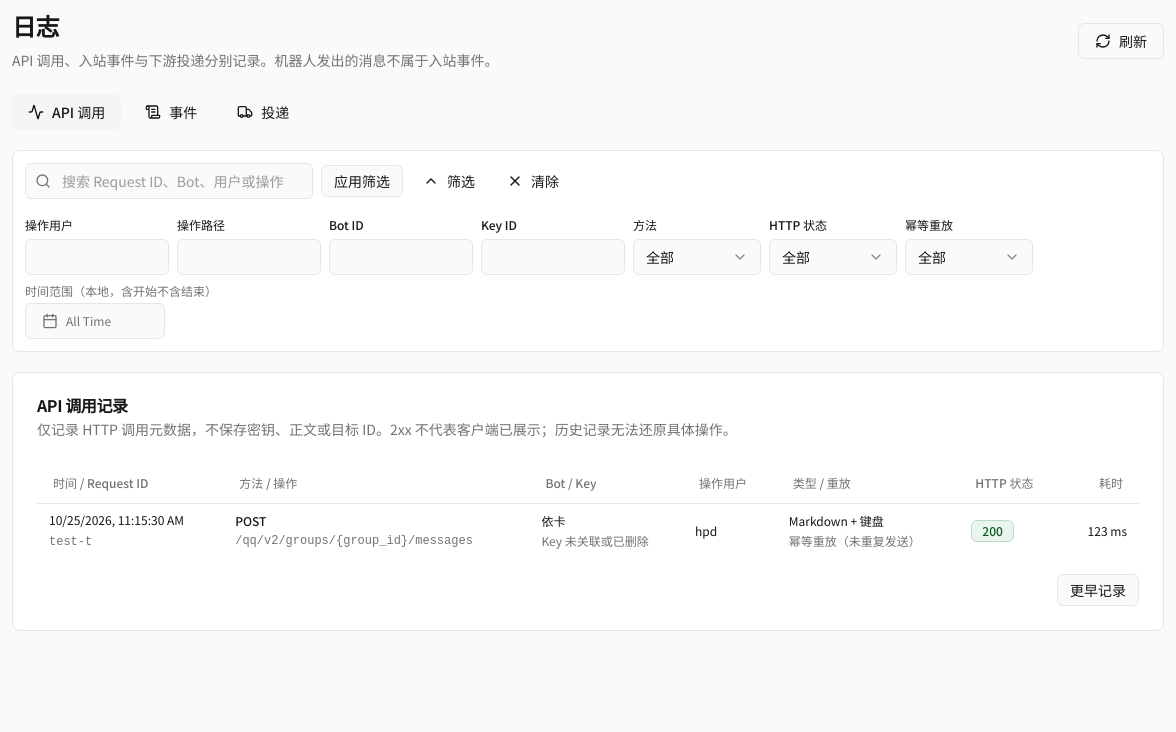
Test: applies filters on the server and resets the older-page cursor
The width and height of the screenshot is (1176, 732).
Expected: the button "test-t" is shown, [49, 534, 92, 550]
Click the button "更早记录" at (1098, 590), box [1057, 574, 1139, 606]
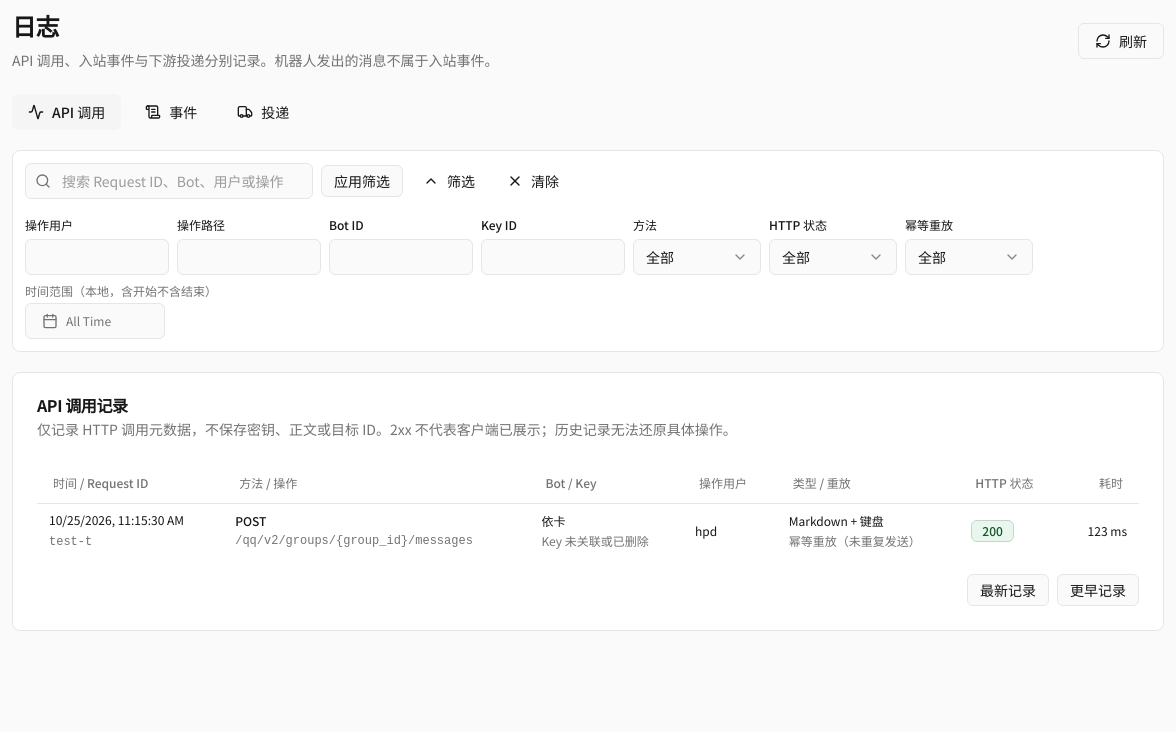
Type "依卡" into the field named "搜索日志" at (169, 181), box [25, 163, 313, 199]
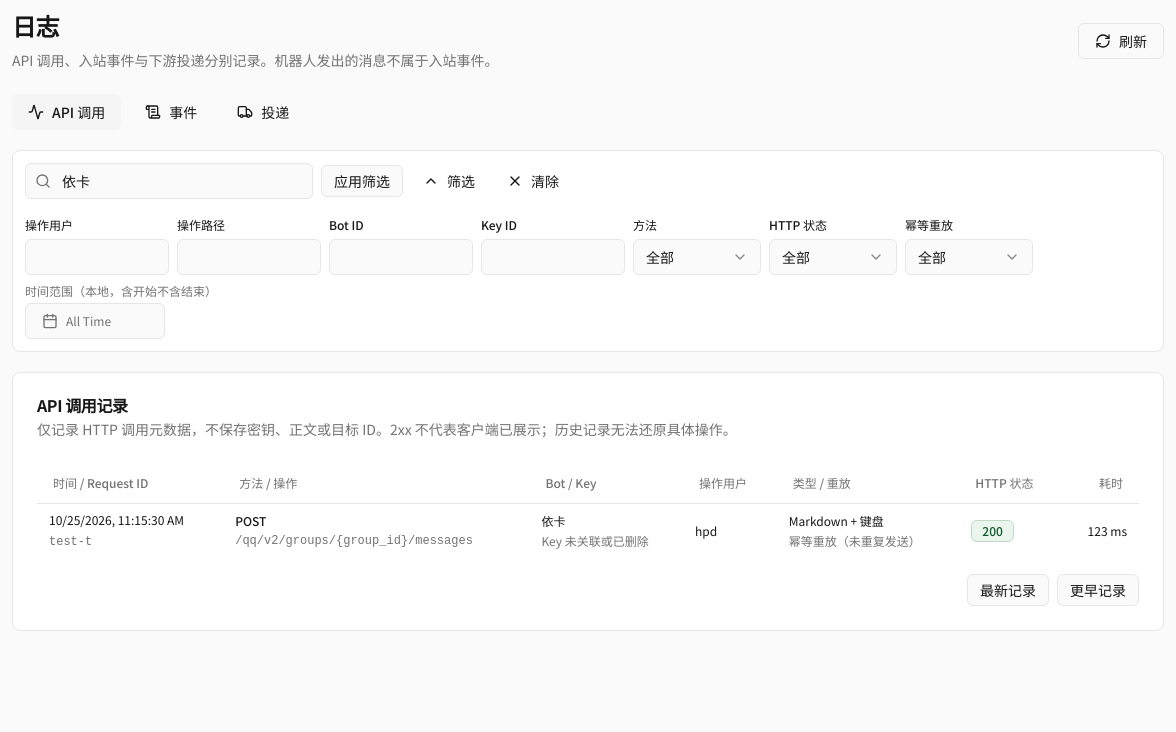
Type "hpd" into the field labelled "操作用户" at (97, 257), box [25, 239, 169, 275]
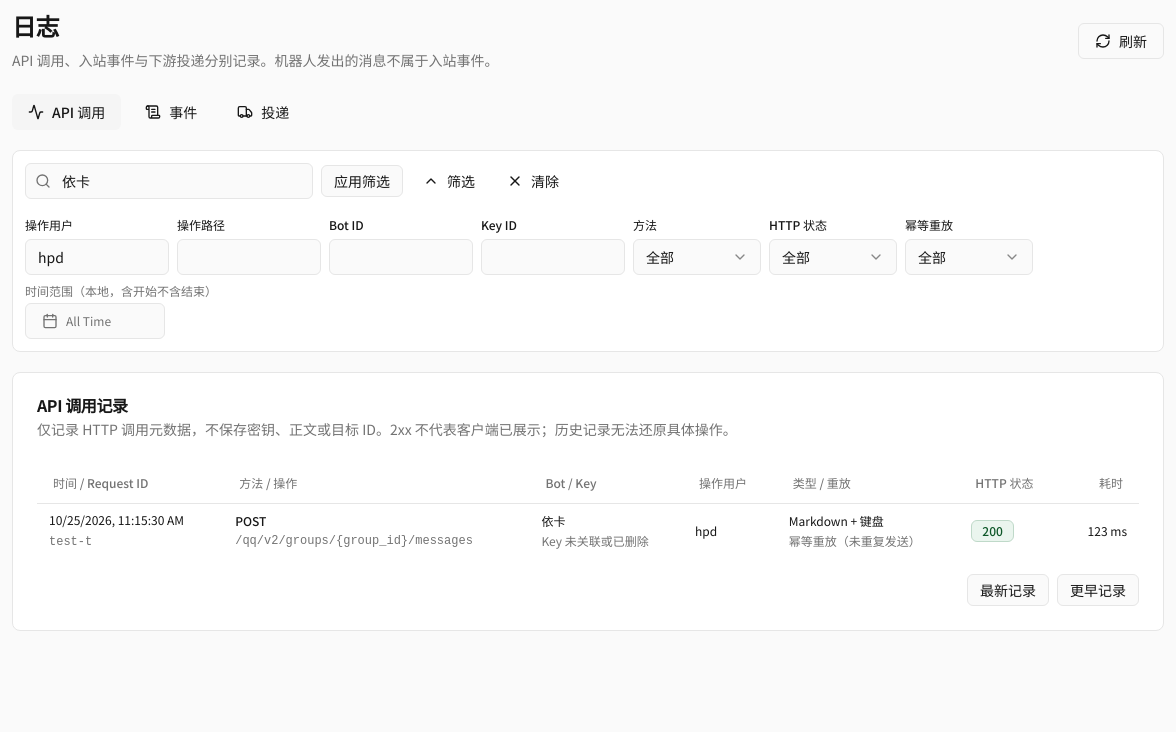
Click the button "应用筛选" at (362, 181), box [321, 165, 403, 197]
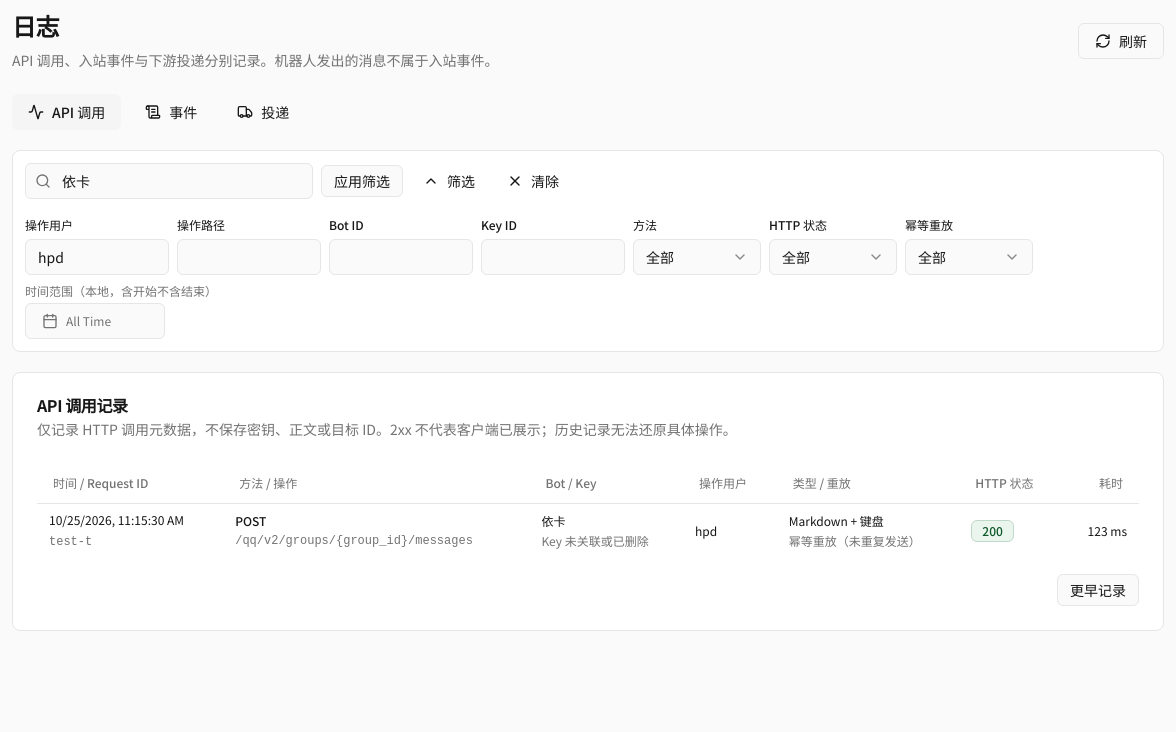
Expected: the button "最新记录" is gone
